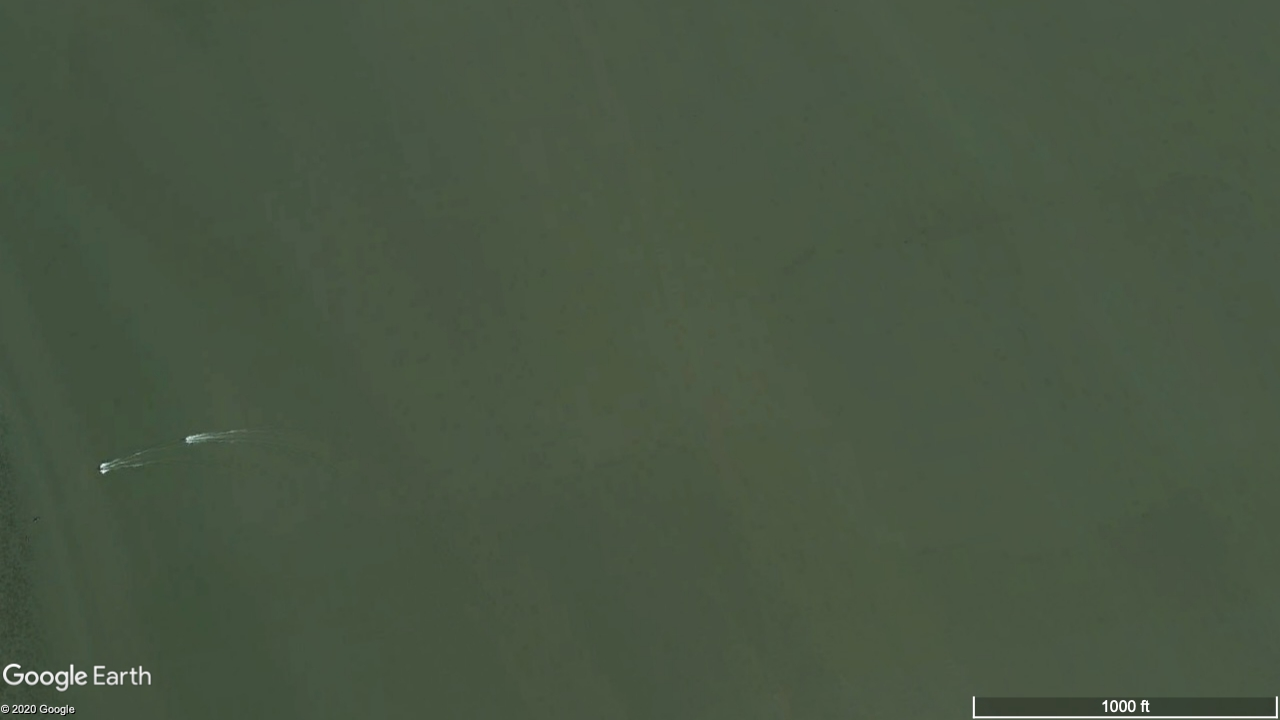satboat: (93, 466, 104, 474), (182, 438, 190, 444)
